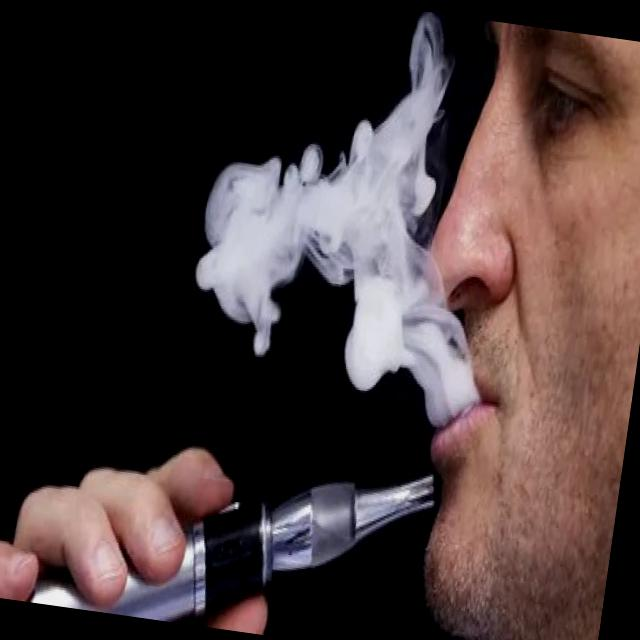smoke: (16, 414, 448, 640)
